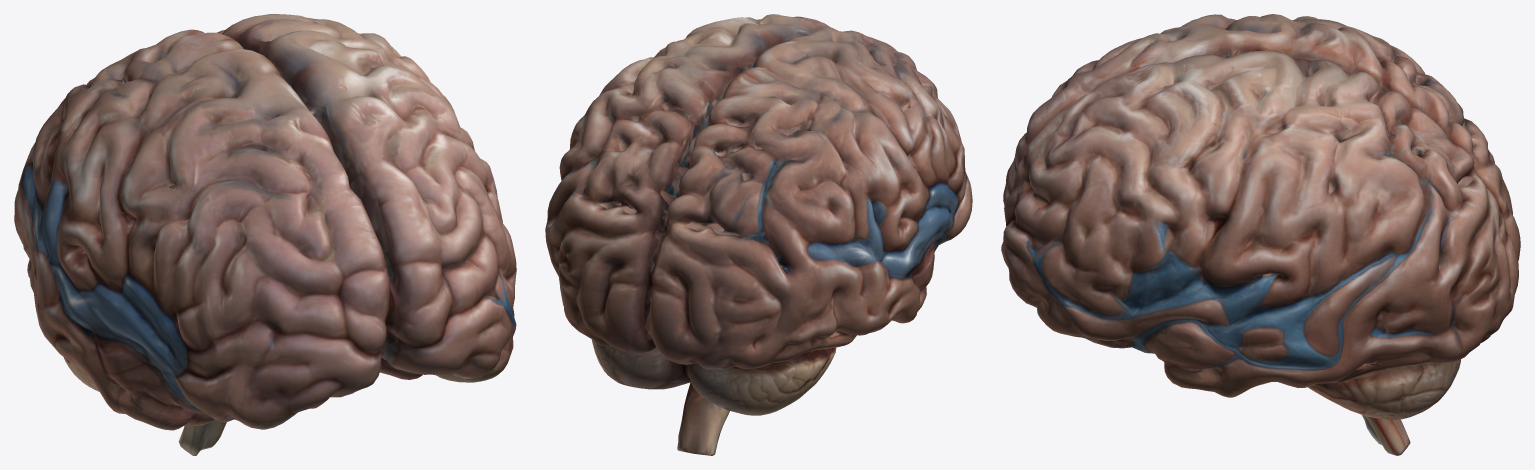
Rendered from OTAKK.glb.
3 renders of one model, left to right at view 1: azimuth 30°, elevation 25°; view 2: azimuth 150°, elevation 25°; view 3: azimuth 270°, elevation 25°, orthographic. The views are drawn at different scales.
Size of the model in its own units: 1.54 by 1.72 by 2.
Materials: 1 (1 with a texture image).
